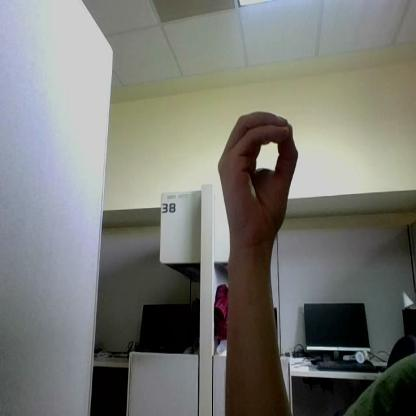O: (218, 111, 298, 233)
